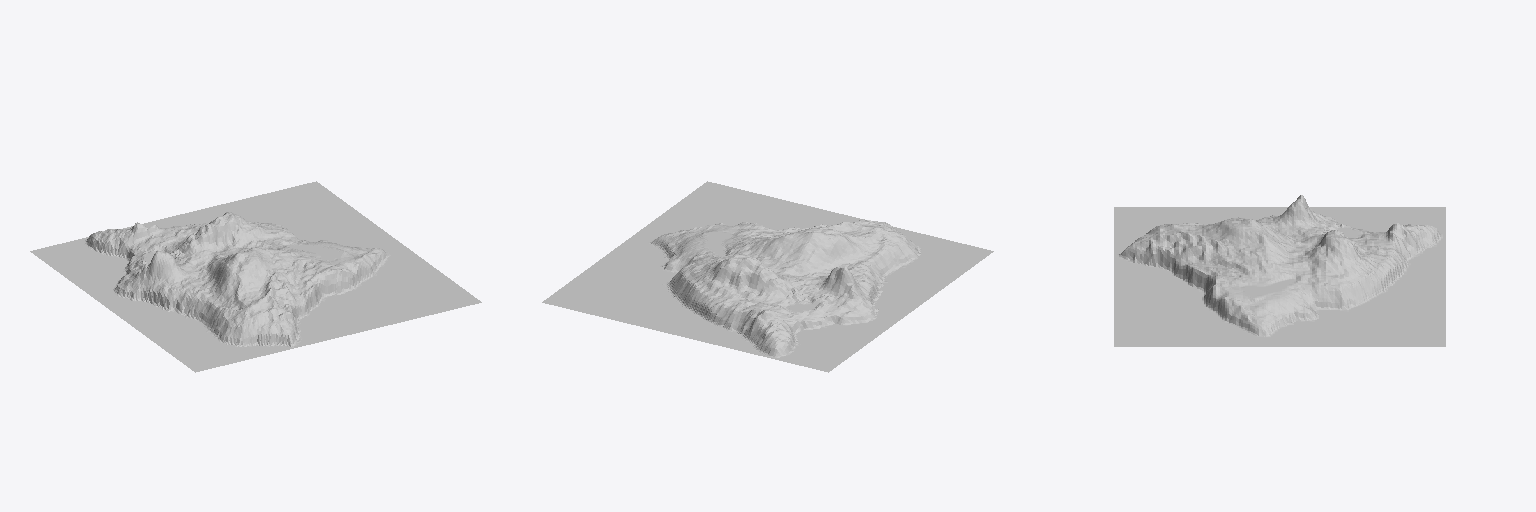
The model's file is terrain.obj.
3 renders of one model, left to right at view 1: azimuth 30°, elevation 25°; view 2: azimuth 150°, elevation 25°; view 3: azimuth 270°, elevation 25°, orthographic.
Visible parts, largest first — view 1: Grid_Grid.001; view 2: Grid_Grid.001; view 3: Grid_Grid.001.
Part boxes in pixels (left/top/right/bottom): Grid_Grid.001: left=30, top=181, right=481, bottom=372; Grid_Grid.001: left=542, top=181, right=993, bottom=372; Grid_Grid.001: left=1114, top=195, right=1445, bottom=346.
Bounding box in the file's own units: 2 × 0.2788 × 2.